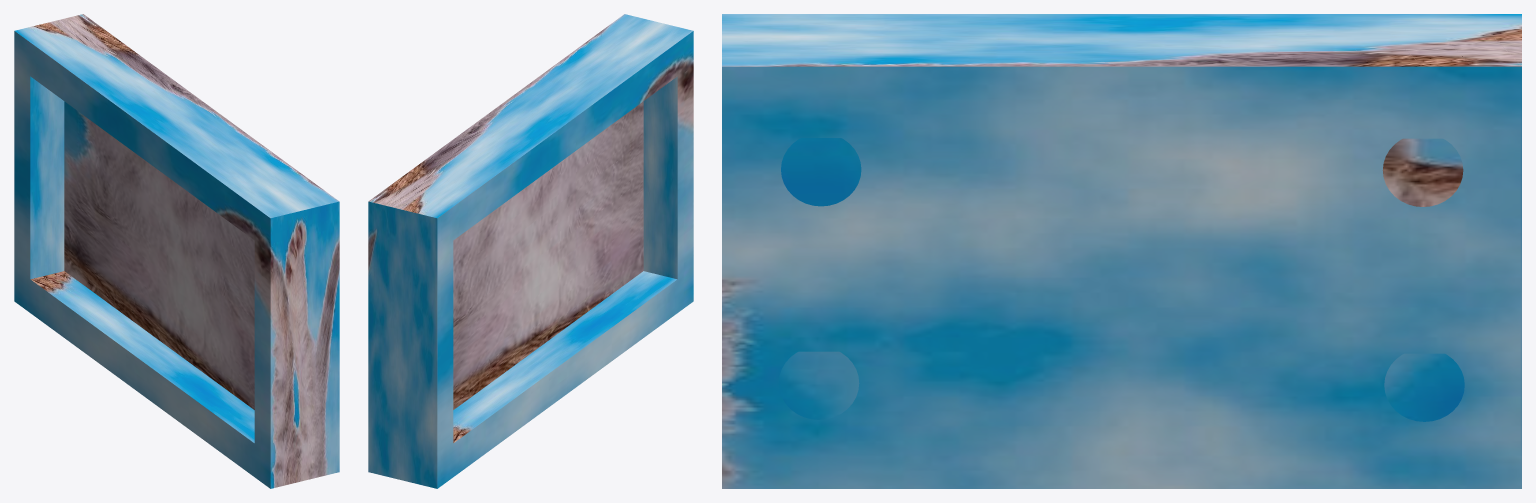
The model's file is Bear_Rampage_random_items67yrholoejrl_.fbx.
3 views of the same model, side by side, from view 1: azimuth 30°, elevation 25°; view 2: azimuth 150°, elevation 25°; view 3: azimuth 270°, elevation 25° (orthographic). The views are drawn at different scales.
Visible parts, largest first — view 1: Cube.046; view 2: Cube.046; view 3: Cube.046.
Part boxes in pixels (box(x1,y1,x2,y2)): Cube.046: box(14, 14, 339, 488); Cube.046: box(368, 14, 693, 488); Cube.046: box(722, 14, 1521, 488).
Bounding box in the file's own units: 250 × 928 × 1591.
